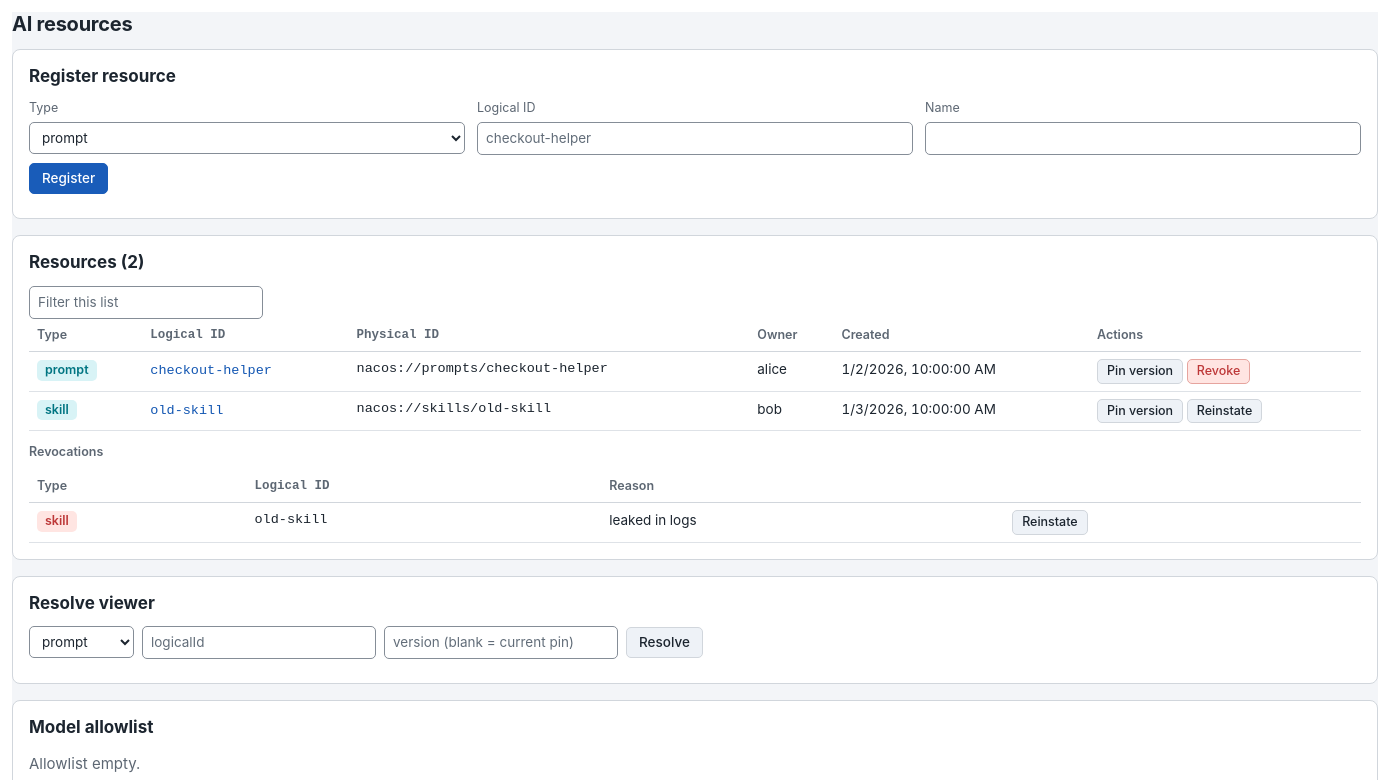
Test case: AiPage list › validates the register fields before posting
Step 1. Click the button "Register" → [69, 179], box [29,163,108,194]
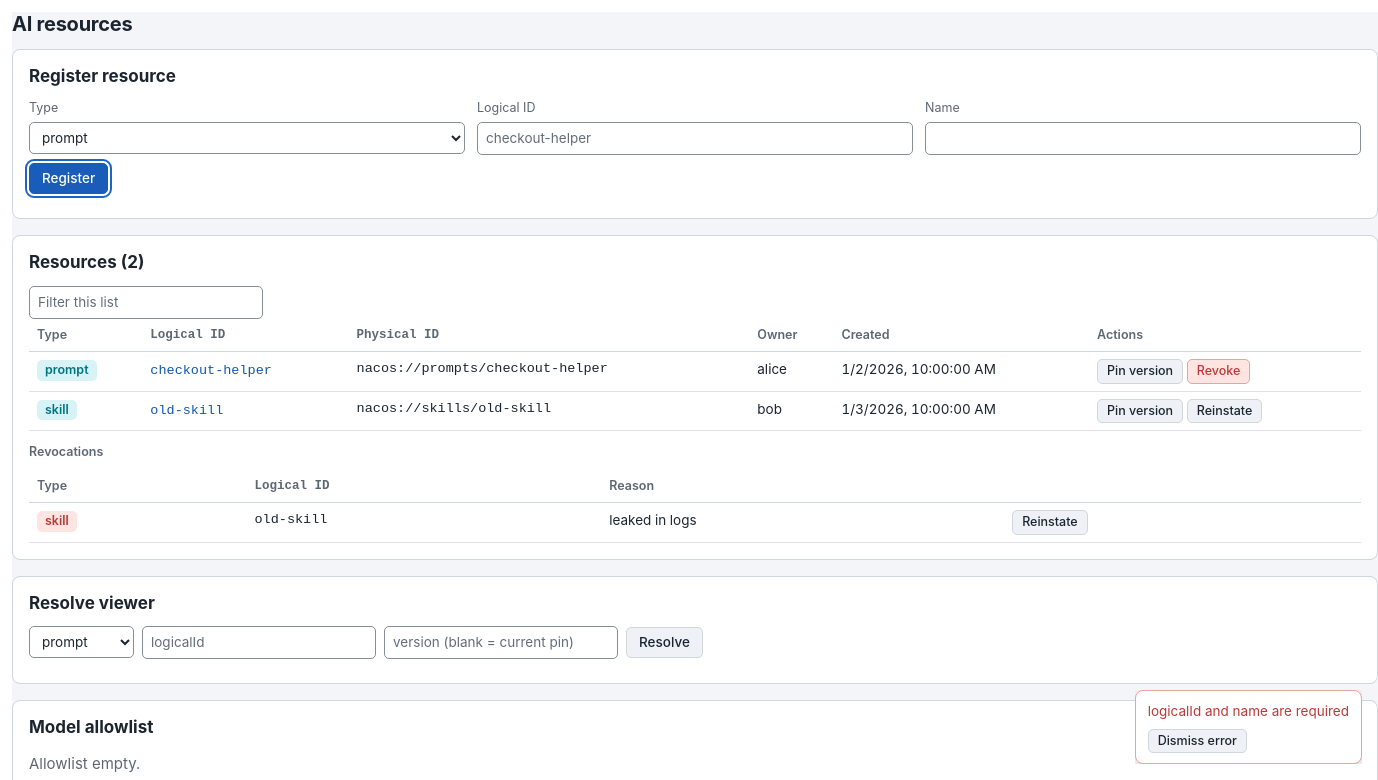
Expected: the text "logicalId and name are required" is shown, [1148,702,1349,718]
